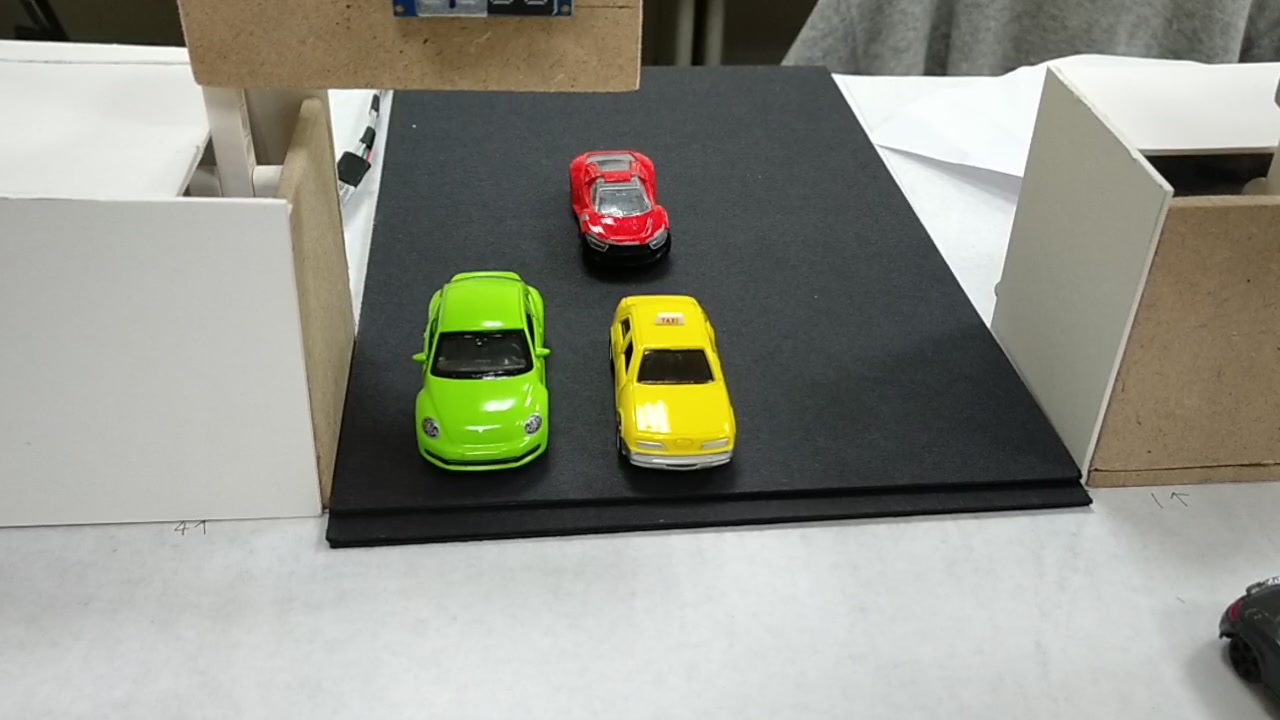car: (417, 265, 549, 470), (606, 298, 732, 465), (572, 149, 669, 259)
